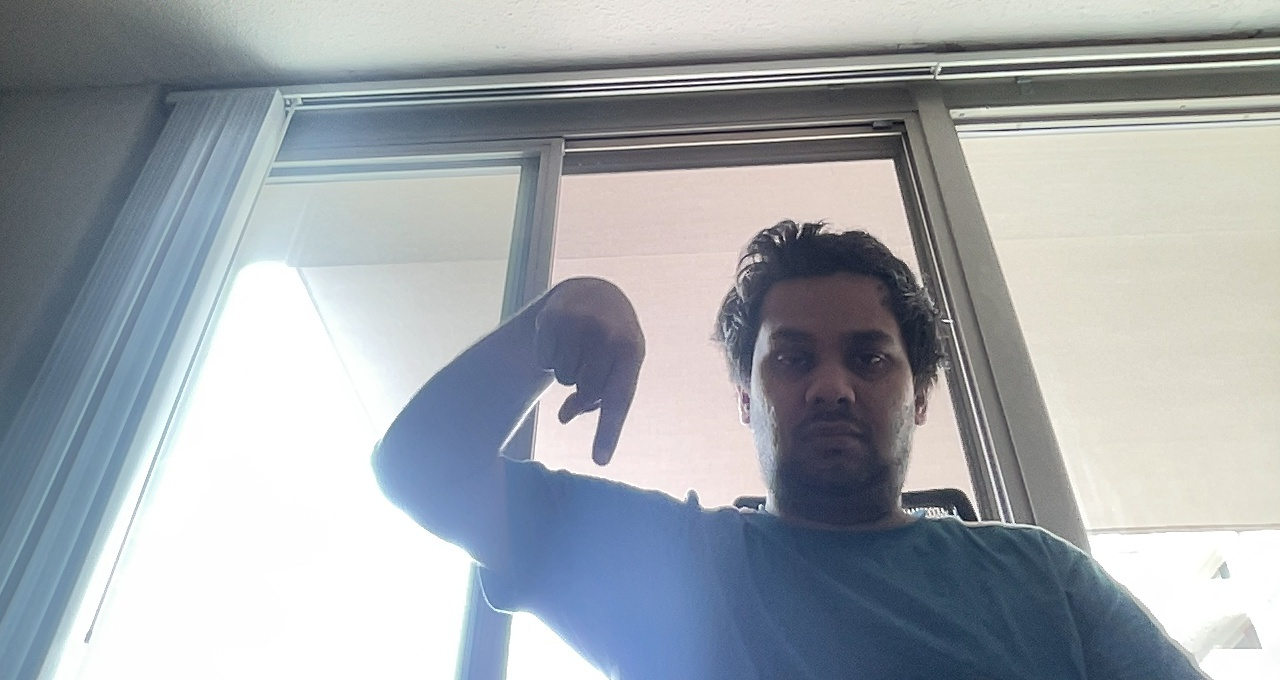fingerdown: (523, 266, 653, 470)
